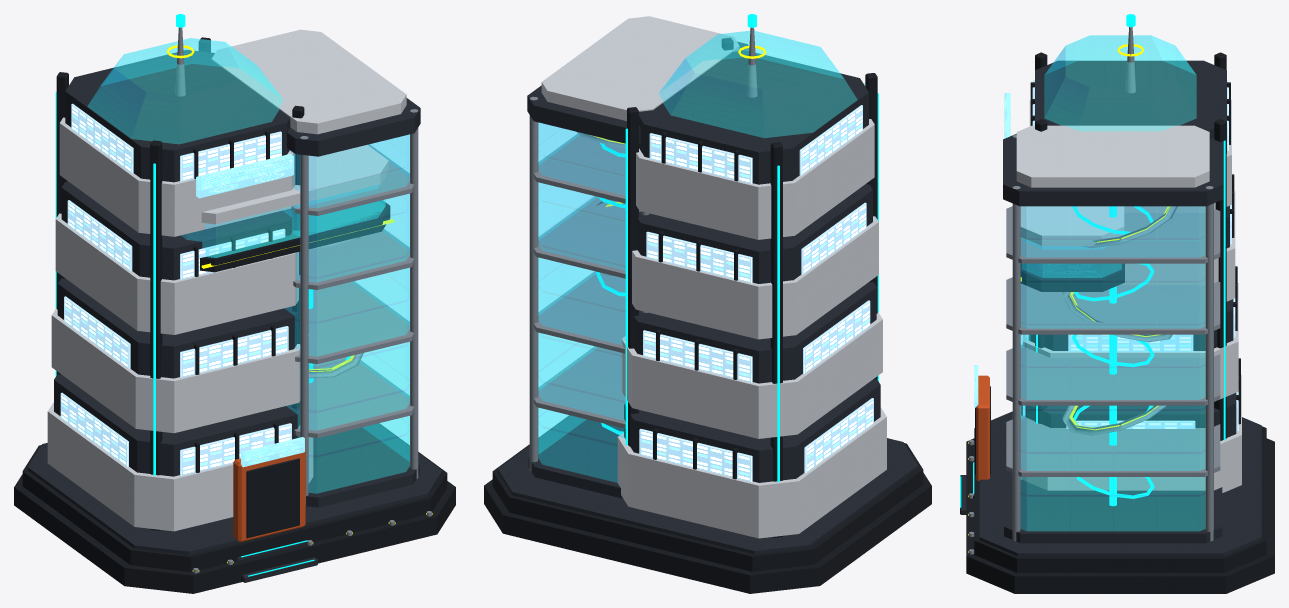
The model's file is bldg_17_r1_05.glb.
The picture shows the model from 3 angles, left to right: view 1: azimuth 30°, elevation 25°; view 2: azimuth 150°, elevation 25°; view 3: azimuth 270°, elevation 25°; orthographic projection. The views are drawn at different scales.
Visible parts, largest first — view 1: Bldg17_C05_aero_white, Bldg17_C05_carbon_slate, Bldg17_C05_glass_cyan, Bldg17_C05_gunmetal, Bldg17_C05_steel_machined, Bldg17_C05_window_lit, Bldg17_C05_marquee, Bldg17_C05_accent_orange, Bldg17_C05_led_cyan; view 2: Bldg17_C05_aero_white, Bldg17_C05_carbon_slate, Bldg17_C05_glass_cyan, Bldg17_C05_gunmetal, Bldg17_C05_steel_machined, Bldg17_C05_window_lit, Bldg17_C05_led_cyan; view 3: Bldg17_C05_glass_cyan, Bldg17_C05_carbon_slate, Bldg17_C05_steel_machined, Bldg17_C05_aero_white, Bldg17_C05_gunmetal, Bldg17_C05_led_cyan, Bldg17_C05_window_lit, Bldg17_C05_accent_orange, Bldg17_C05_led_amber, Bldg17_C05_marquee.
Part boxes in pixels (box(x1,y1,x2,y2)): Bldg17_C05_aero_white: box(47, 29, 406, 531); Bldg17_C05_carbon_slate: box(27, 50, 442, 582); Bldg17_C05_glass_cyan: box(87, 38, 409, 493); Bldg17_C05_gunmetal: box(14, 37, 455, 593); Bldg17_C05_steel_machined: box(175, 27, 431, 573); Bldg17_C05_window_lit: box(60, 103, 291, 475); Bldg17_C05_marquee: box(196, 154, 304, 467); Bldg17_C05_accent_orange: box(233, 449, 305, 542); Bldg17_C05_led_cyan: box(55, 14, 350, 576); Bldg17_C05_aero_white: box(541, 16, 886, 538); Bldg17_C05_carbon_slate: box(497, 42, 918, 554); Bldg17_C05_glass_cyan: box(538, 30, 857, 482); Bldg17_C05_gunmetal: box(484, 38, 931, 593); Bldg17_C05_steel_machined: box(529, 27, 757, 471); Bldg17_C05_window_lit: box(639, 105, 873, 481); Bldg17_C05_led_cyan: box(596, 14, 878, 481); Bldg17_C05_glass_cyan: box(1020, 35, 1205, 530); Bldg17_C05_carbon_slate: box(960, 60, 1261, 556); Bldg17_C05_steel_machined: box(969, 27, 1220, 554); Bldg17_C05_aero_white: box(1016, 99, 1241, 492); Bldg17_C05_gunmetal: box(966, 52, 1274, 593); Bldg17_C05_led_cyan: box(960, 14, 1225, 507); Bldg17_C05_window_lit: box(1023, 80, 1238, 430); Bldg17_C05_accent_orange: box(976, 375, 989, 481); Bldg17_C05_led_amber: box(968, 44, 1170, 552); Bldg17_C05_marquee: box(974, 93, 1010, 407).
Size of the model in its own units: 12.5 by 17.92 by 10.71.
10 materials, 10 textured.
